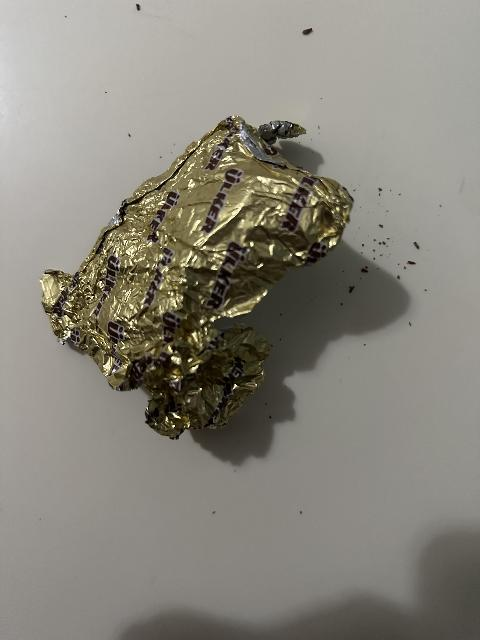Plastik: (37, 106, 352, 441)
